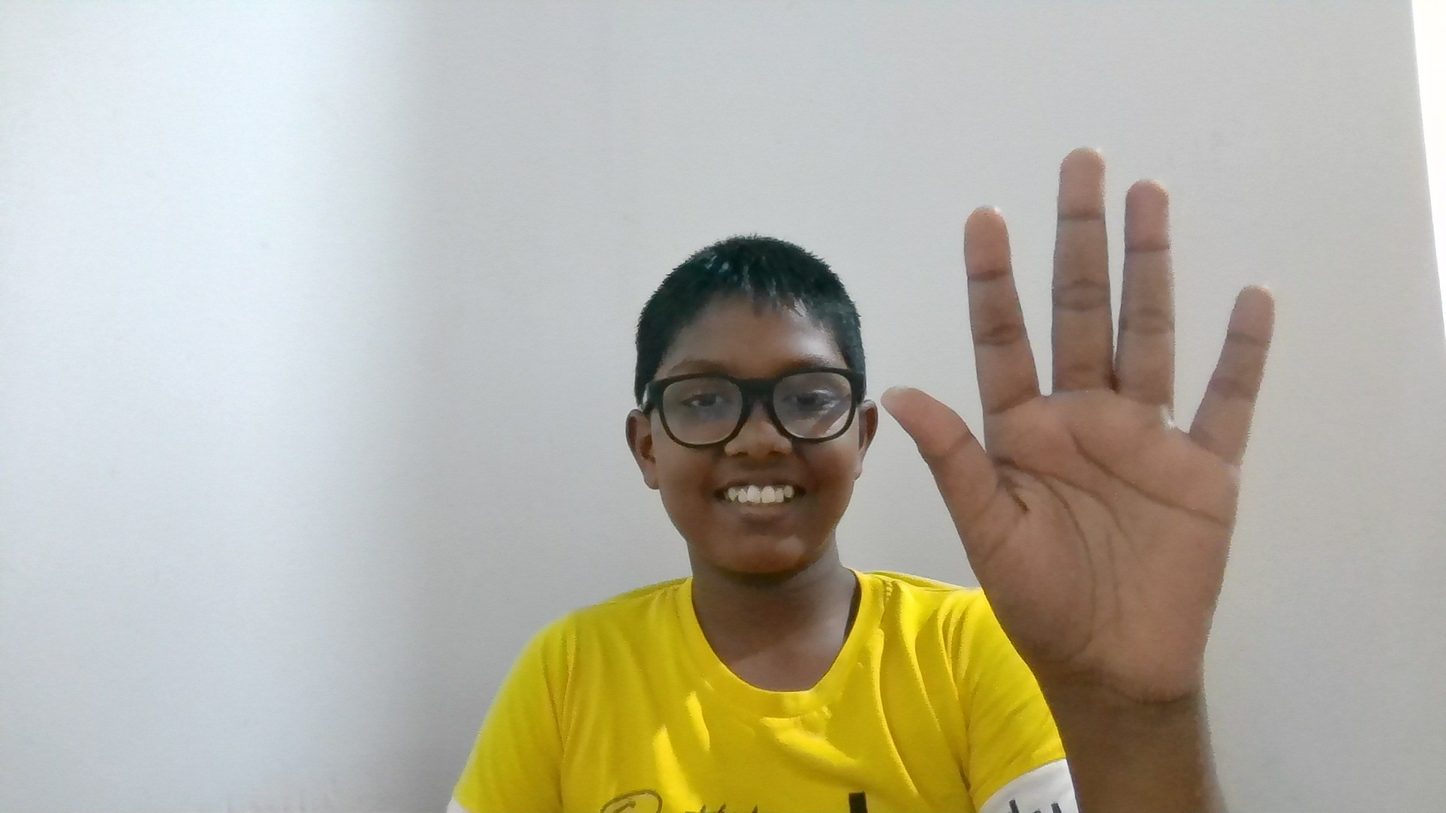Hello: (868, 121, 1307, 695)
